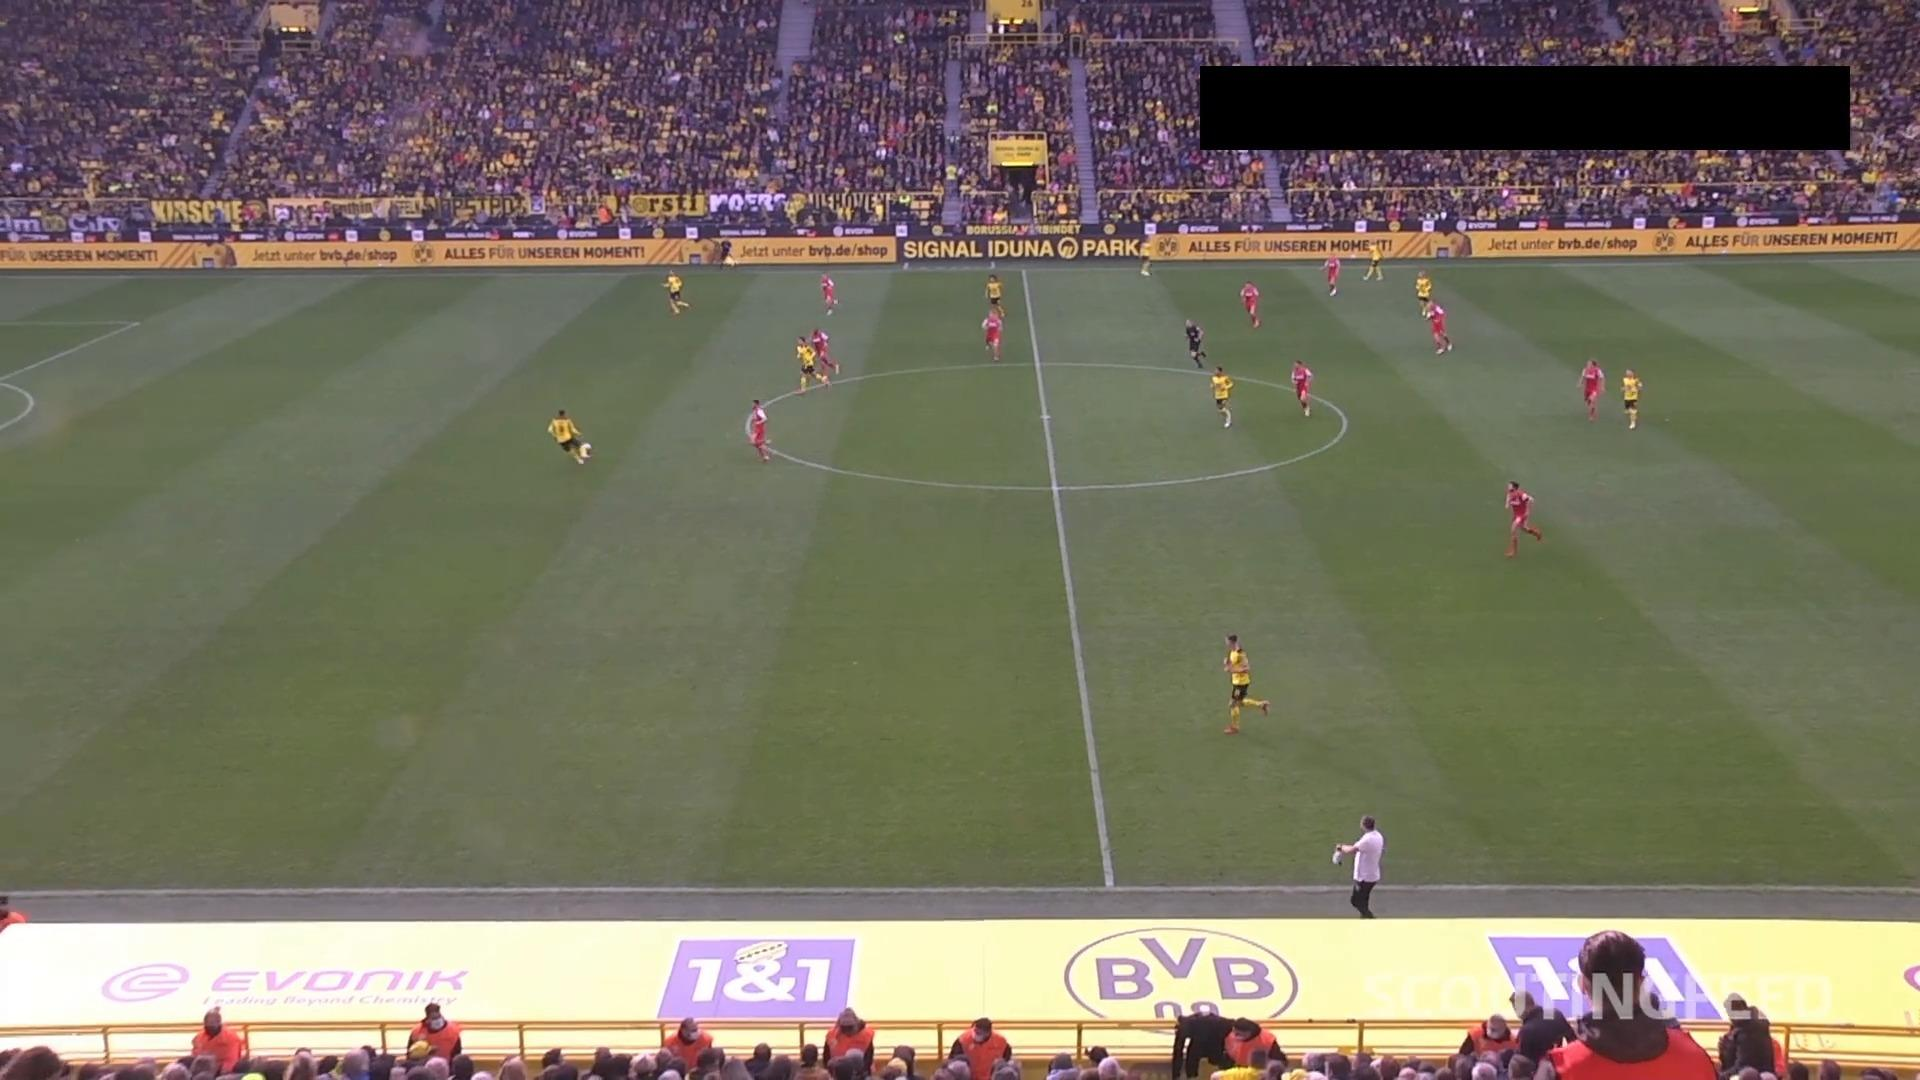ball: (580, 442, 592, 452)
